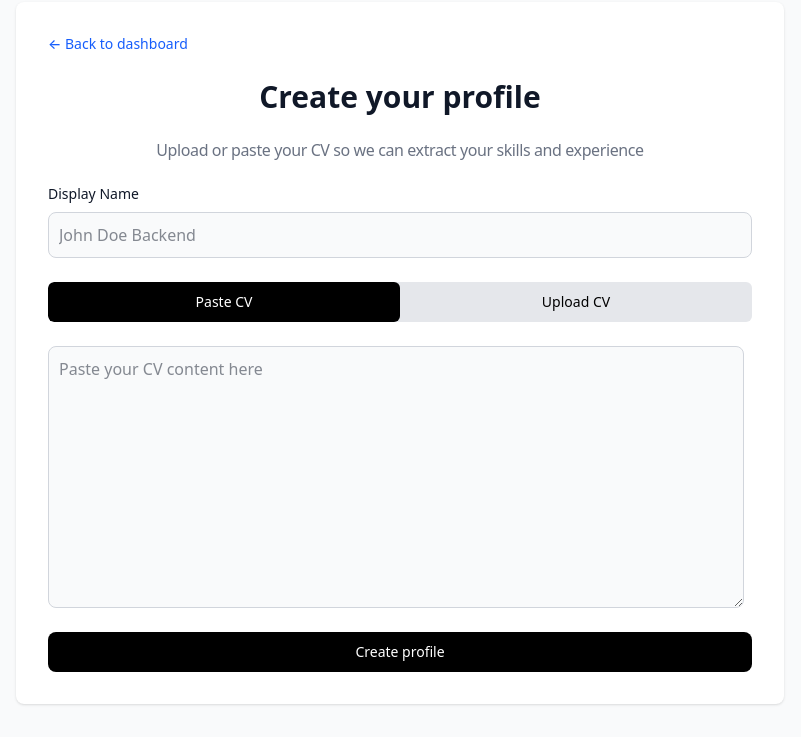
Test: requires pasted CV in paste mode
The width and height of the screenshot is (801, 737).
In the field labelled "Display Name": point(400, 235) [48, 212, 752, 258], type "Primary"
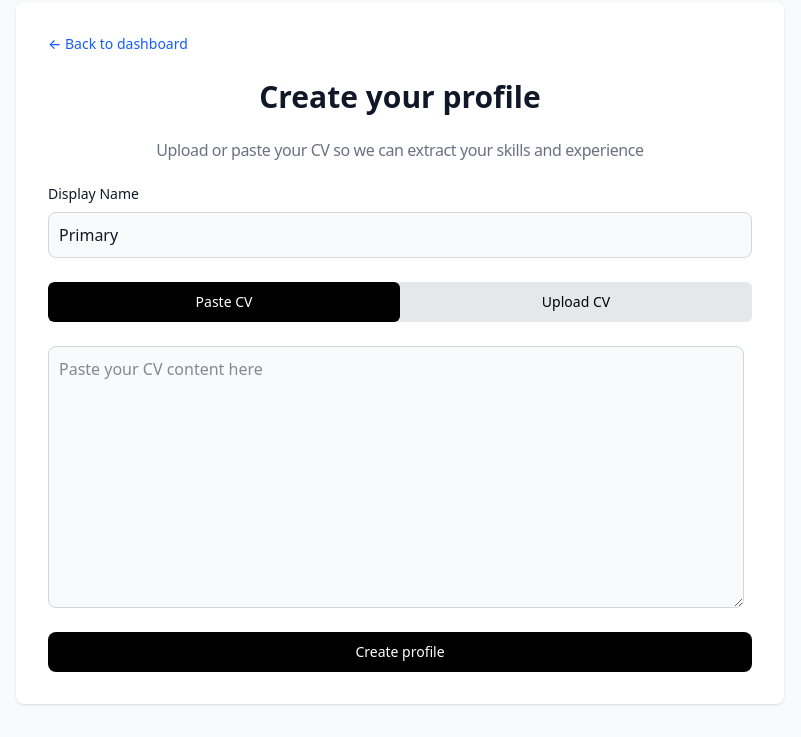
Click the button "Create profile": point(400, 652) [48, 632, 752, 672]
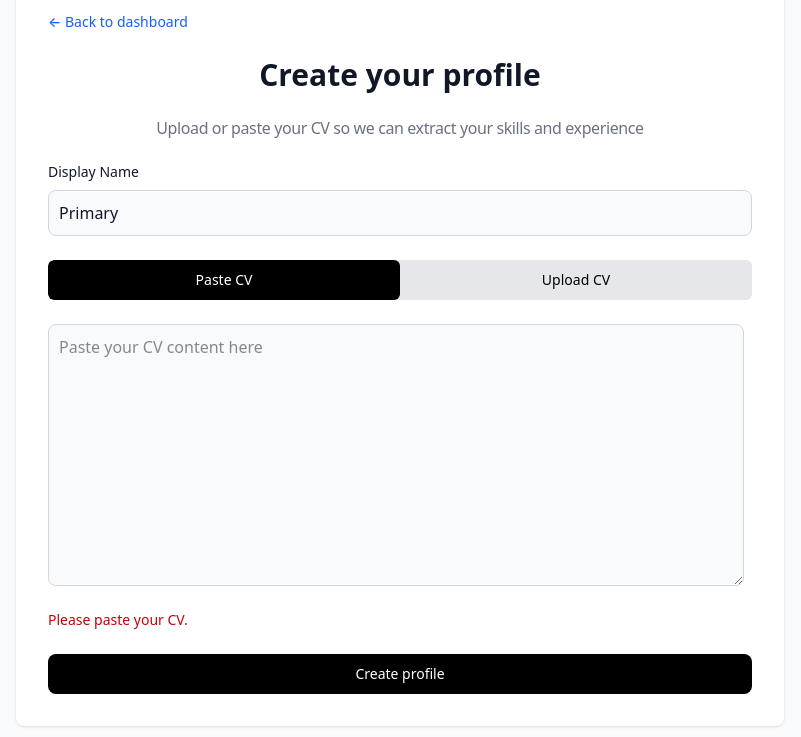
Expected: the text "Please paste your CV." is shown, [48, 610, 188, 629]
